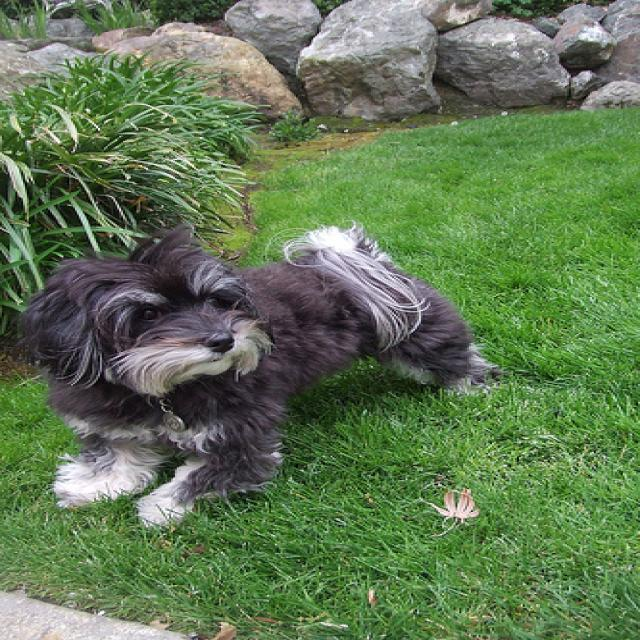dog: (31, 240, 269, 386)
